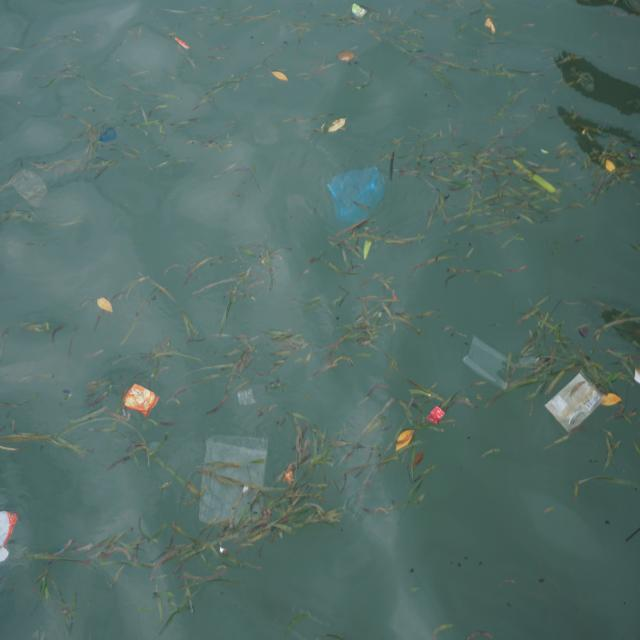Bungkus Makanan: (544, 370, 605, 437), (122, 379, 162, 423)
Bungkus Minuman: (96, 117, 123, 149)
Kantong Plastik: (199, 433, 274, 530), (326, 159, 389, 234), (462, 330, 517, 398)
